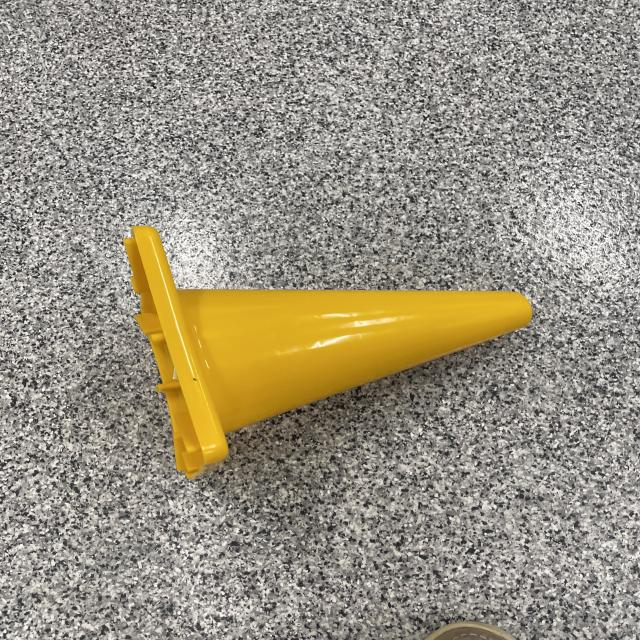frc_cone: (94, 210, 534, 474)
